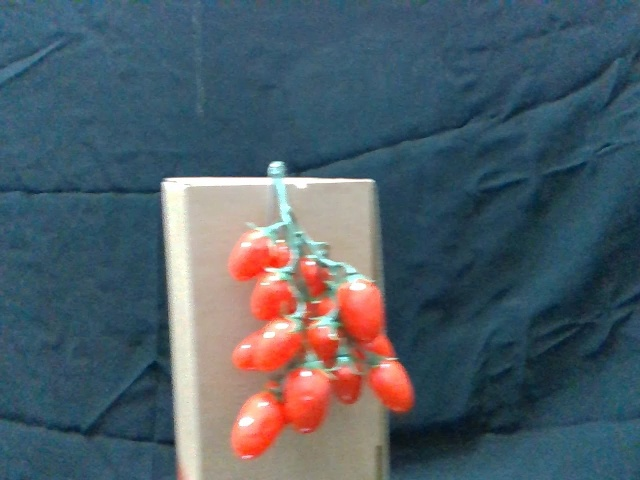tomato: (231, 392, 284, 461), (284, 364, 331, 434), (251, 315, 308, 370), (339, 271, 384, 340), (371, 354, 415, 412), (232, 226, 274, 281), (252, 269, 295, 318), (331, 354, 366, 407), (308, 316, 341, 360)
